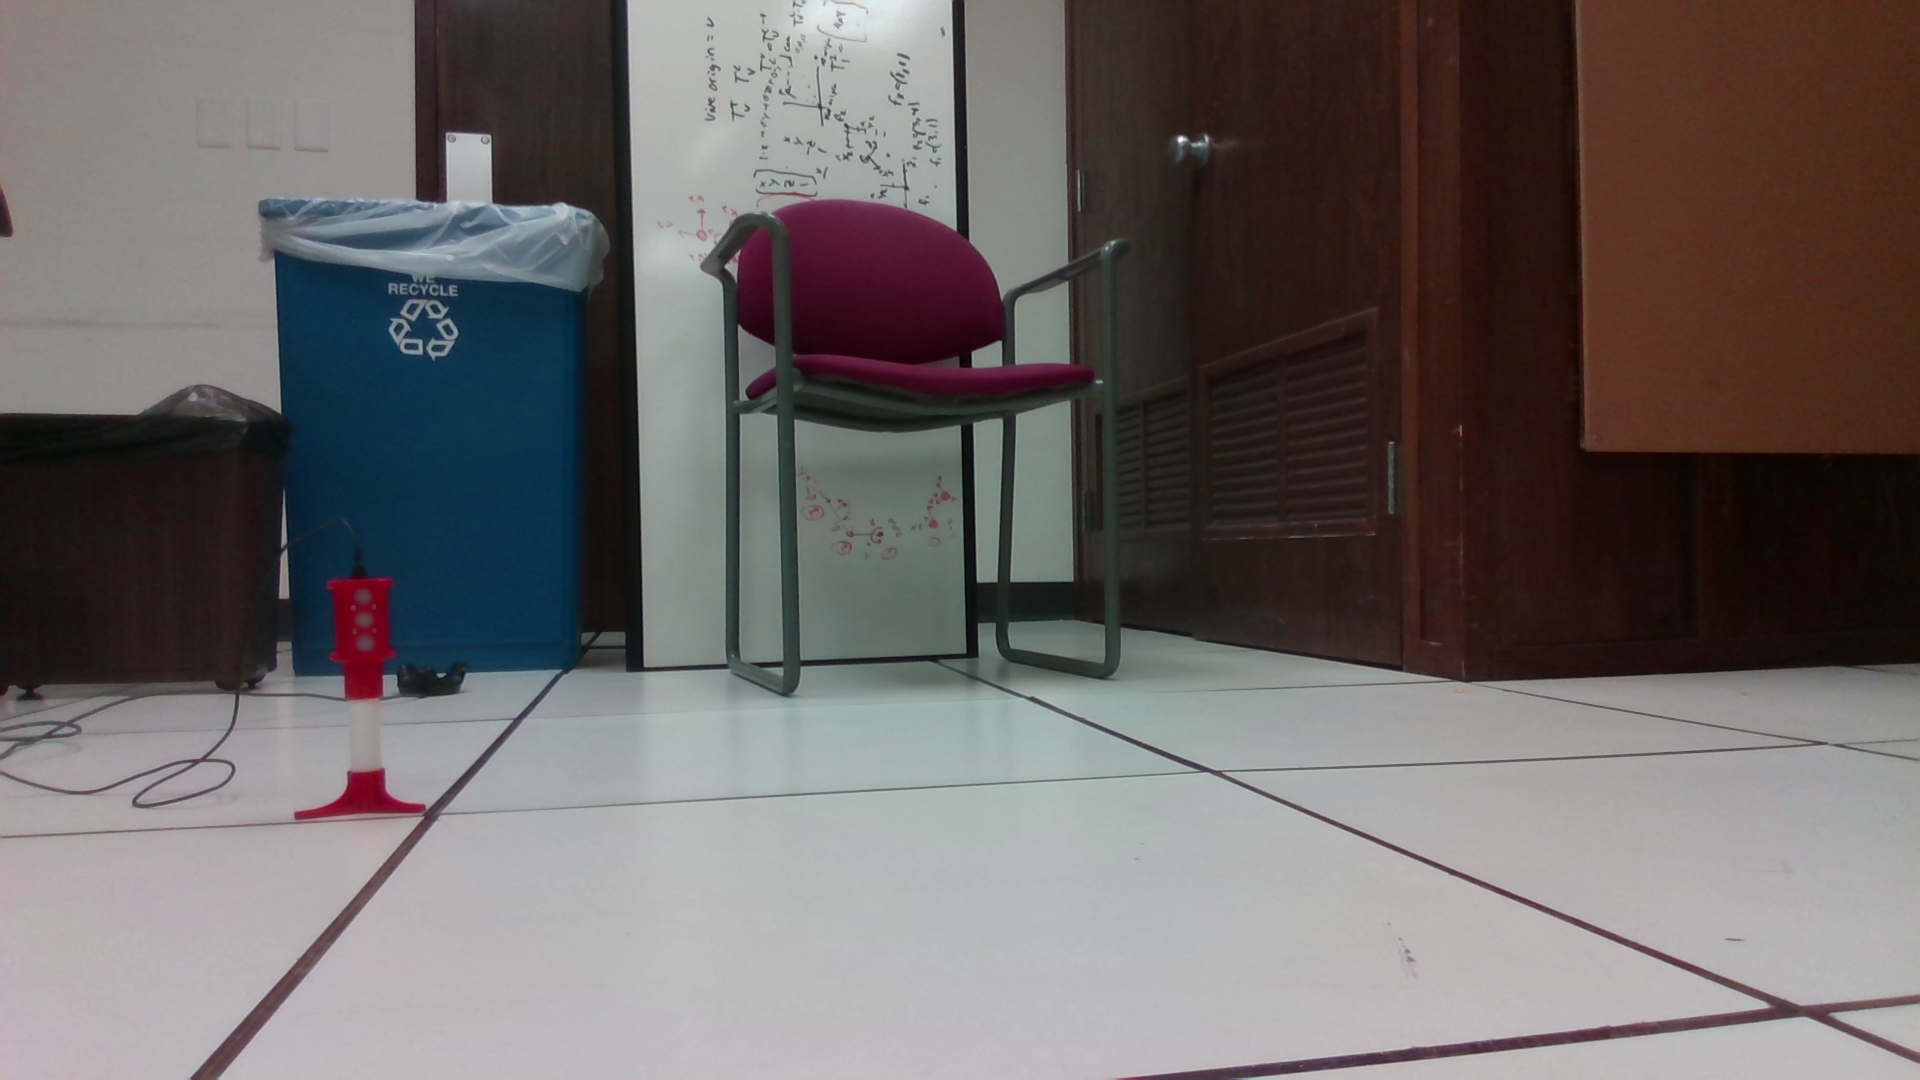stoplight: (324, 578, 400, 702)
